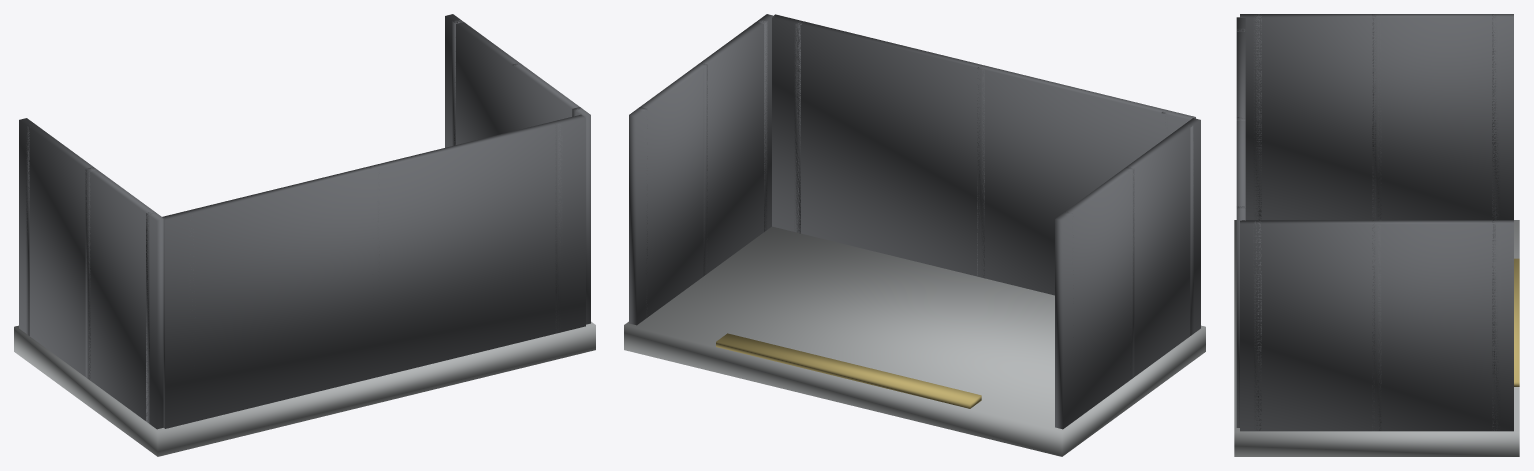
File: landing_industrial_w220_d125_window.glb
3 views of the same model, side by side, from view 1: azimuth 30°, elevation 25°; view 2: azimuth 150°, elevation 25°; view 3: azimuth 270°, elevation 25° (orthographic).
Parts seen in each view (by area): view 1: world; view 2: world; view 3: world.
Part boxes in pixels (<box>): world: <box>14,14,595,456</box>; world: <box>624,14,1205,456</box>; world: <box>1234,14,1519,456</box>.
Bounding box in the file's own units: 2.2 × 1.12 × 1.25.
